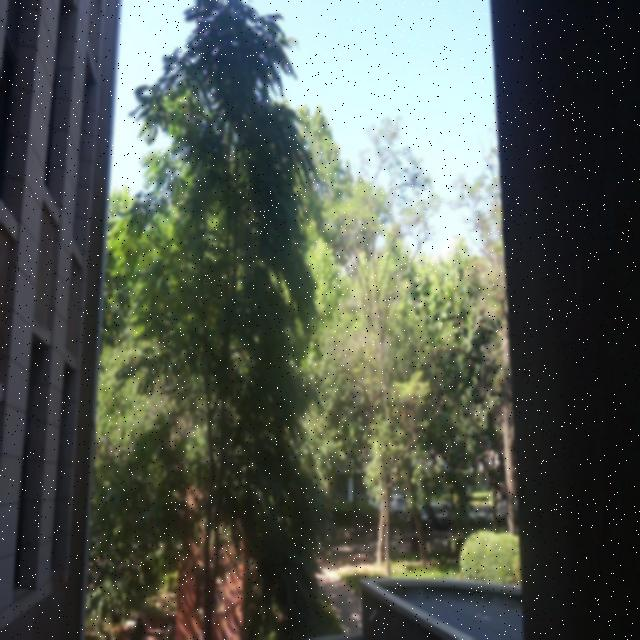UAV: (363, 231, 369, 237)
